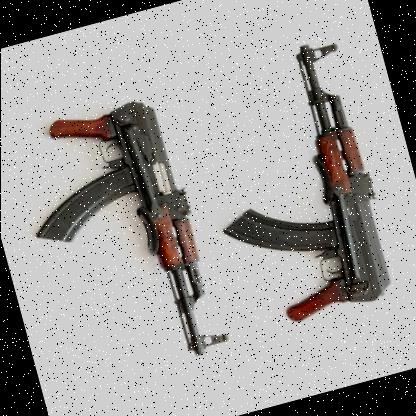rifle: (177, 30, 416, 345), (3, 78, 239, 389)
